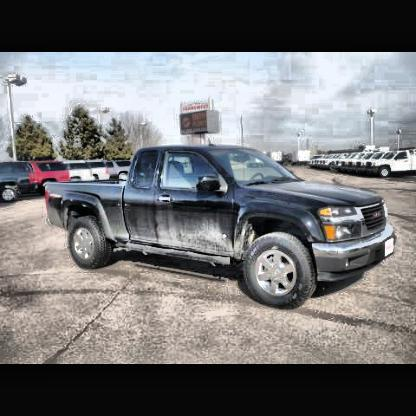GMC Canyon Extended Cab 2012: (45, 145, 398, 311)
